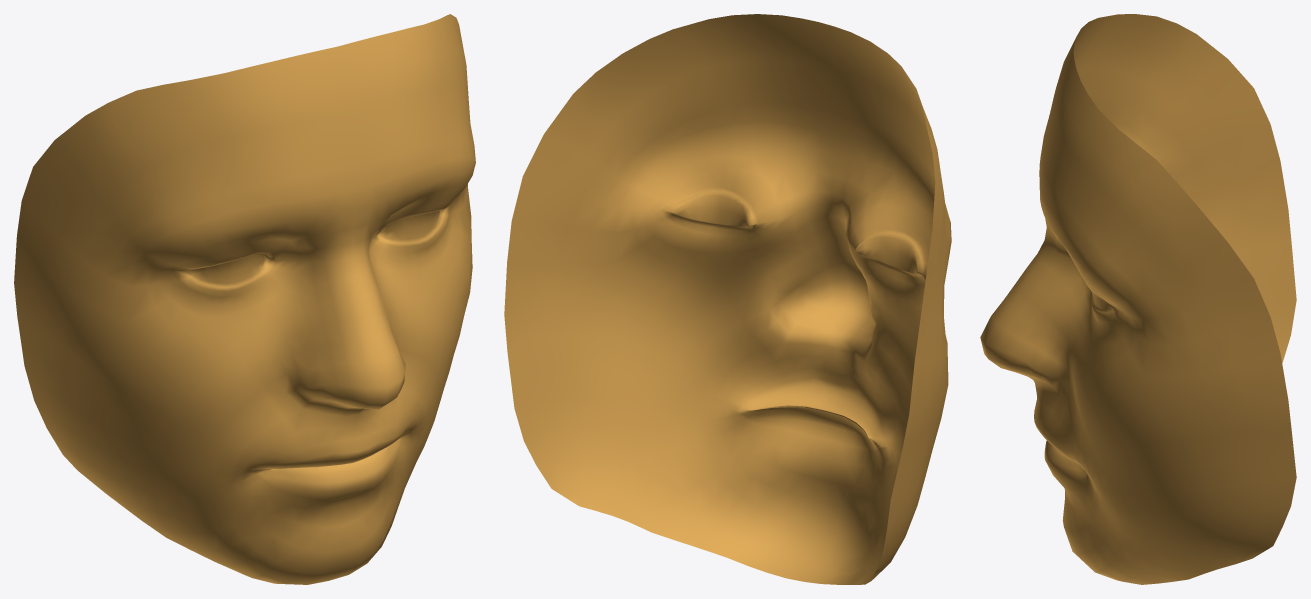
File: face_mesh_-_wael_tsar.glb
3 renders of one model, left to right at view 1: azimuth 30°, elevation 25°; view 2: azimuth 150°, elevation 25°; view 3: azimuth 270°, elevation 25°, orthographic. The views are drawn at different scales.
Parts seen in each view (by area): view 1: faceMesh; view 2: faceMesh; view 3: faceMesh.
Part boxes in pixels (x1,y1,x2,y2): faceMesh: [14, 14, 475, 584]; faceMesh: [504, 14, 951, 584]; faceMesh: [980, 14, 1296, 584].
Bounding box in the file's own units: 14.95 × 18.68 × 10.37.
